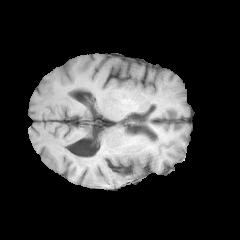glioma: (75, 137, 160, 177)
